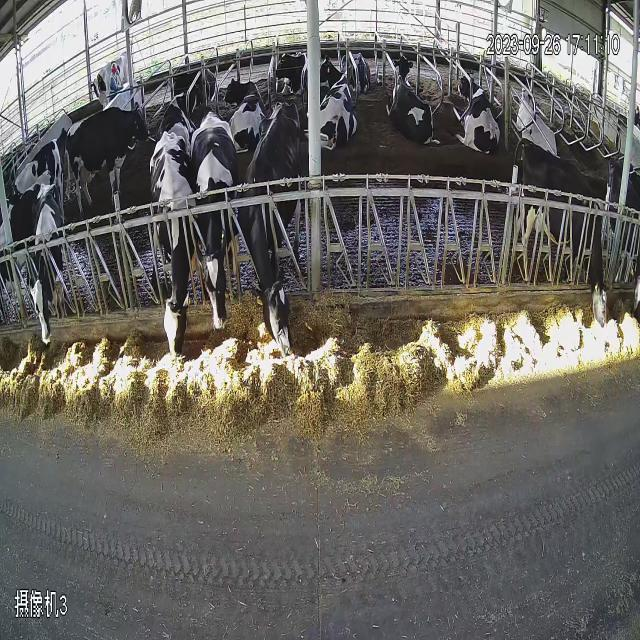feeding: (508, 132, 640, 354), (241, 96, 314, 362), (150, 110, 192, 368), (192, 109, 236, 352)
lying down: (386, 45, 439, 153), (454, 72, 507, 160), (316, 52, 356, 156)
standing: (22, 75, 149, 239), (3, 187, 83, 353), (90, 32, 146, 129)
